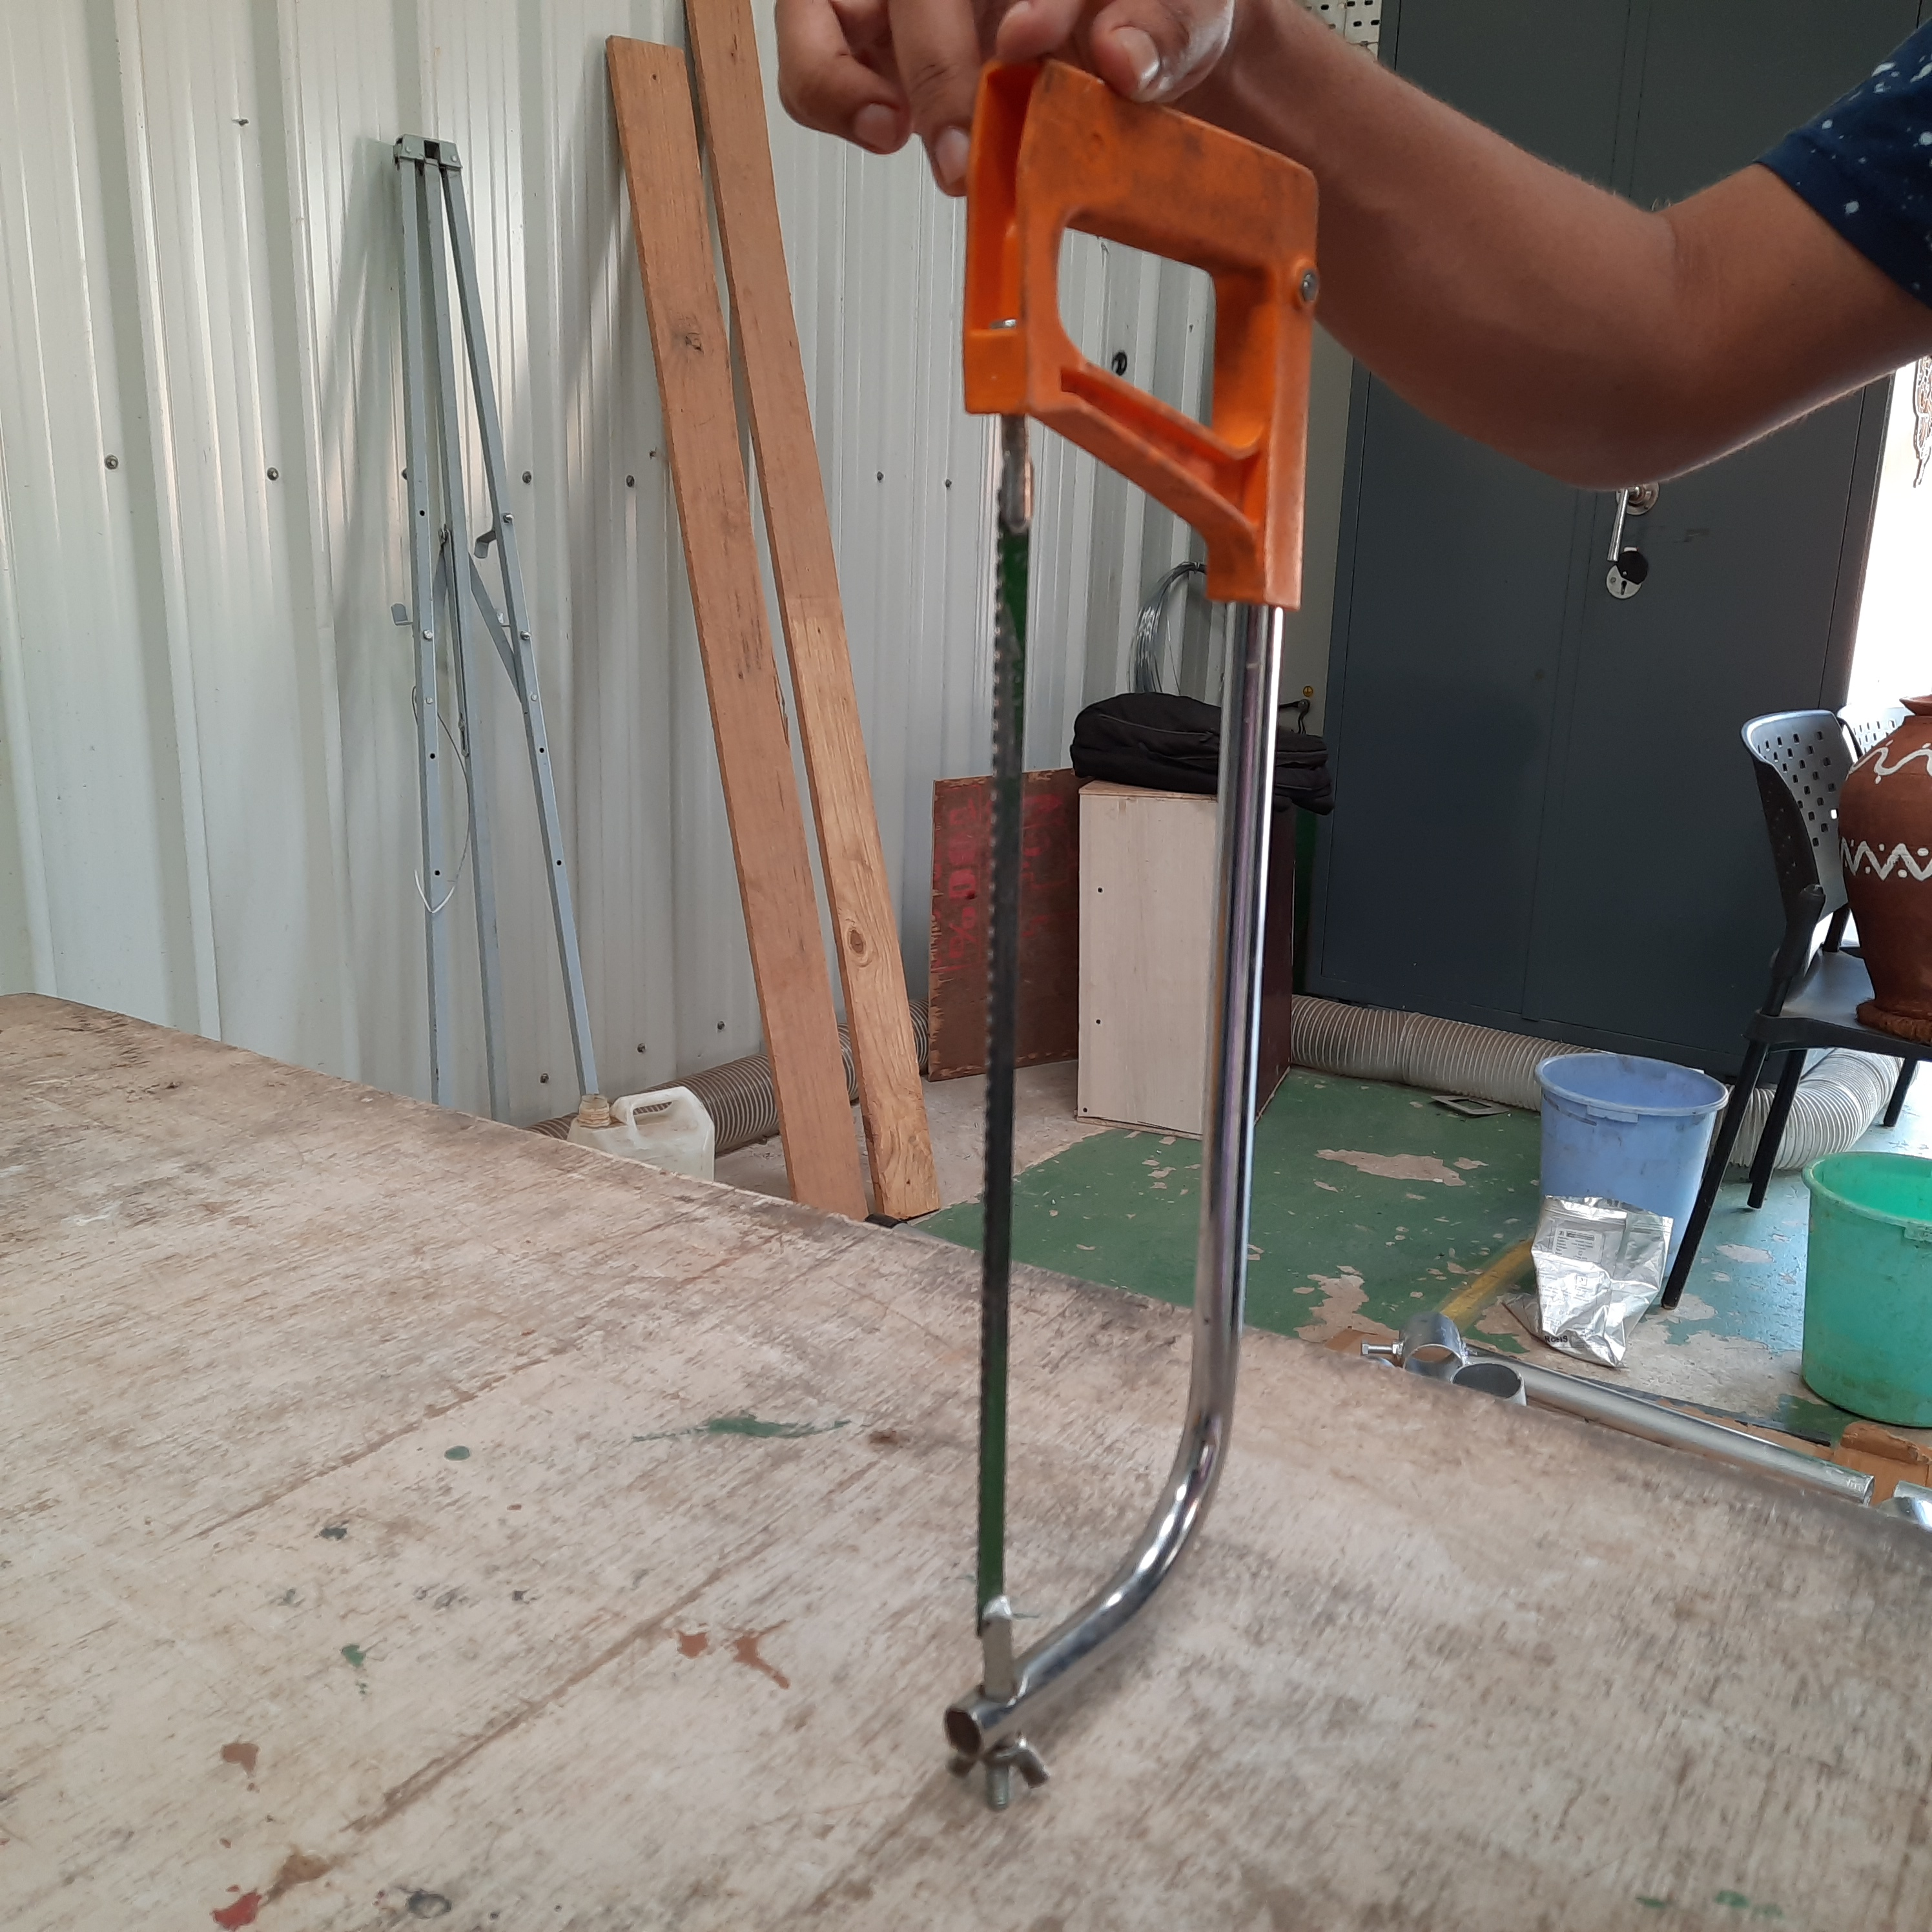Hexaframe: (947, 21, 1325, 1750)
